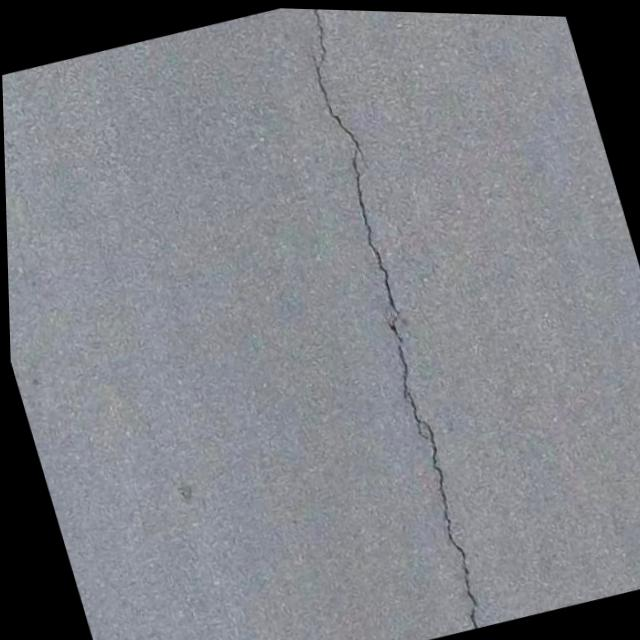Crack: (280, 7, 527, 629)
